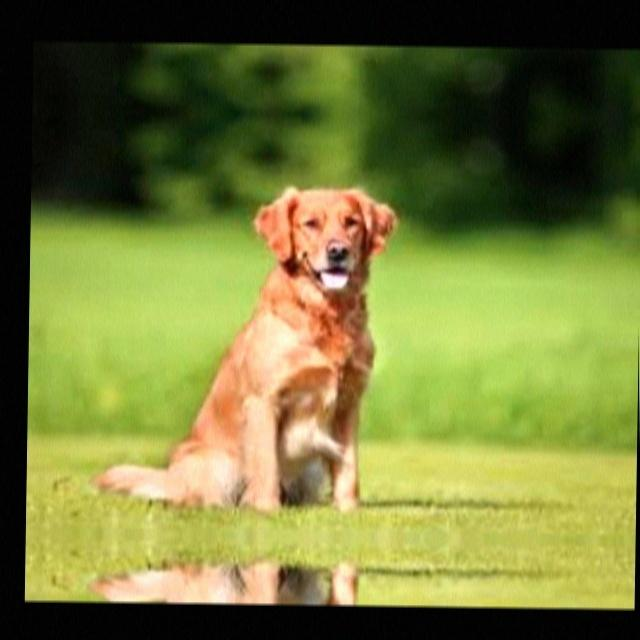dog: (95, 174, 401, 522), (94, 548, 396, 606), (102, 42, 403, 50)
